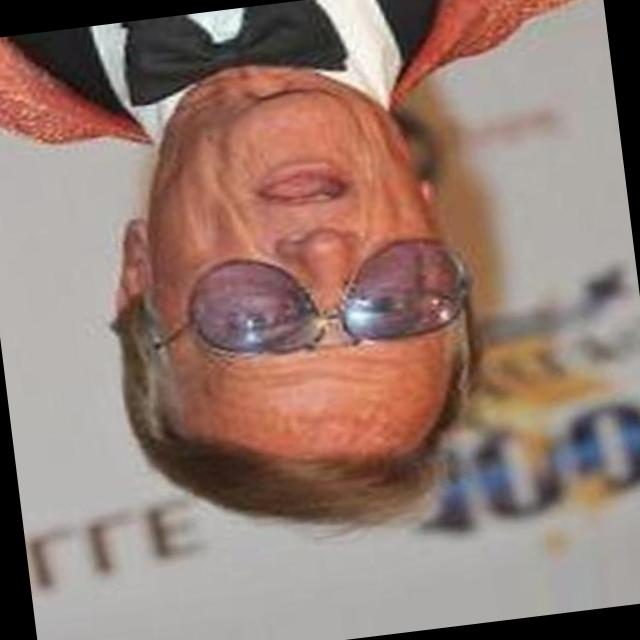bareface: (70, 82, 507, 556)
